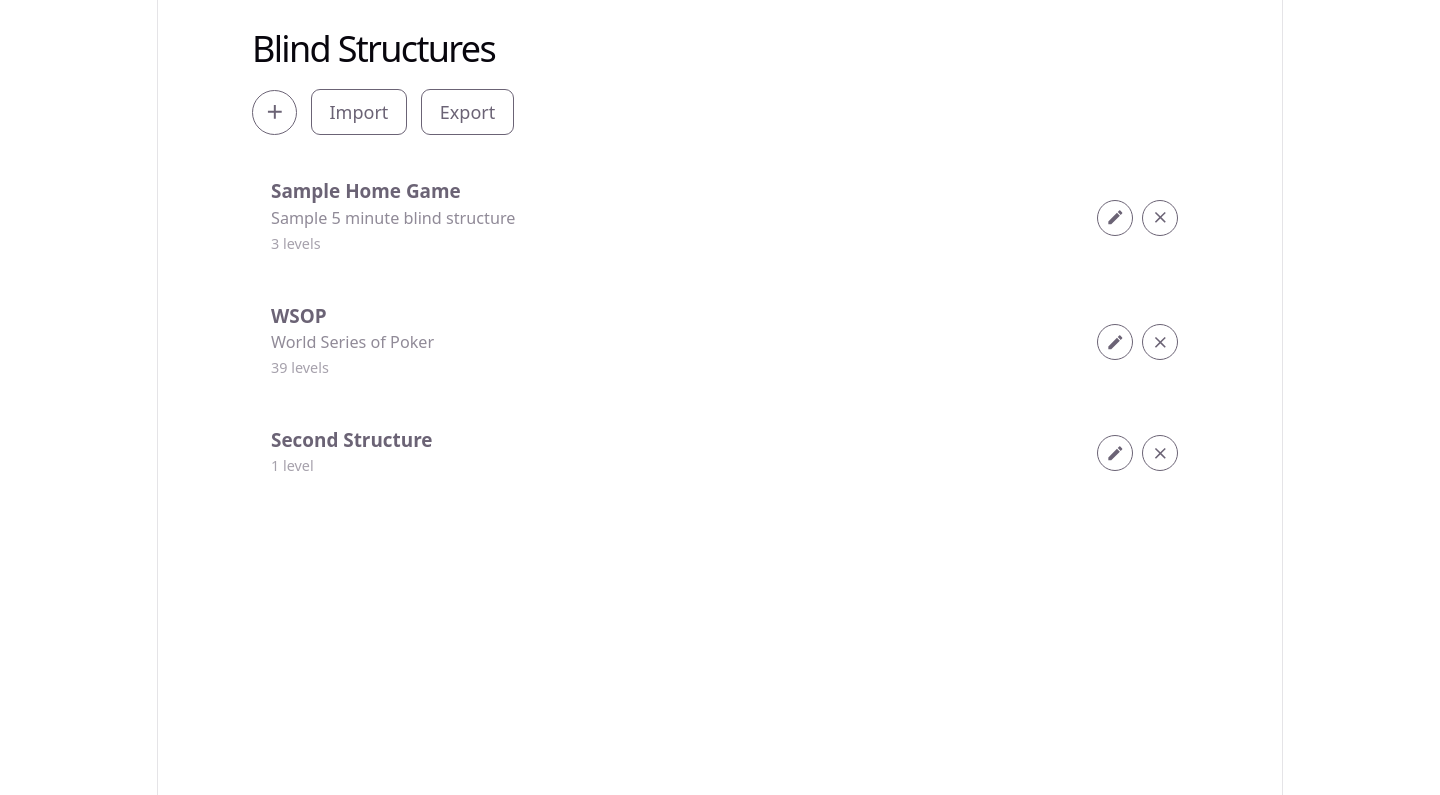
Test: SettingsPage › saves changes and proceeds when Save is chosen in the unsaved-changes dialog
This screenshot has width=1440, height=795.
Step 1. Click the button named "Edit Sample Home Game" → (1115, 218), box top-left (1097, 200), bottom-right (1133, 236)
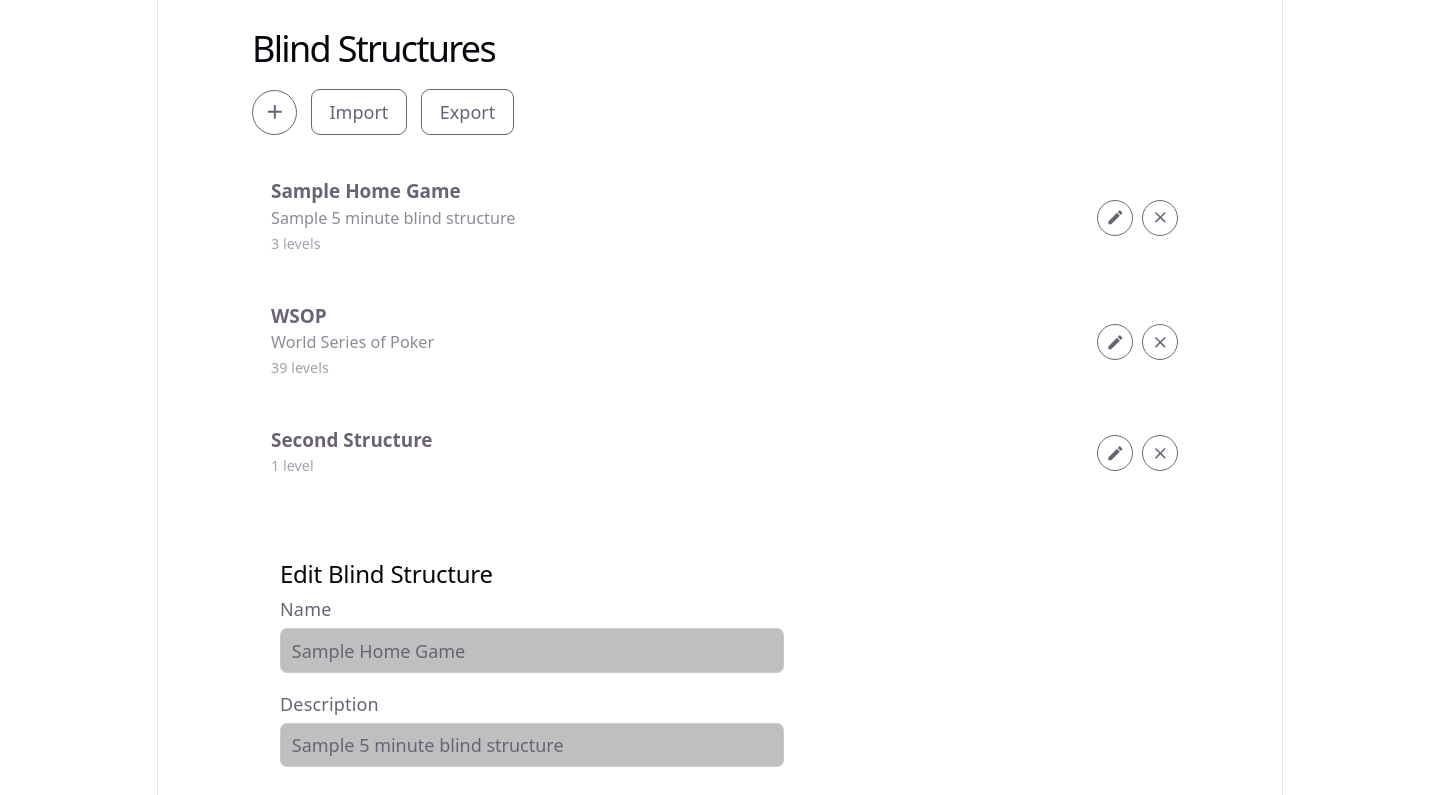
Step 2. Replace the text in the field labelled "Name" with "Sample Home Game Edited" → (532, 651), box top-left (280, 628), bottom-right (784, 673)
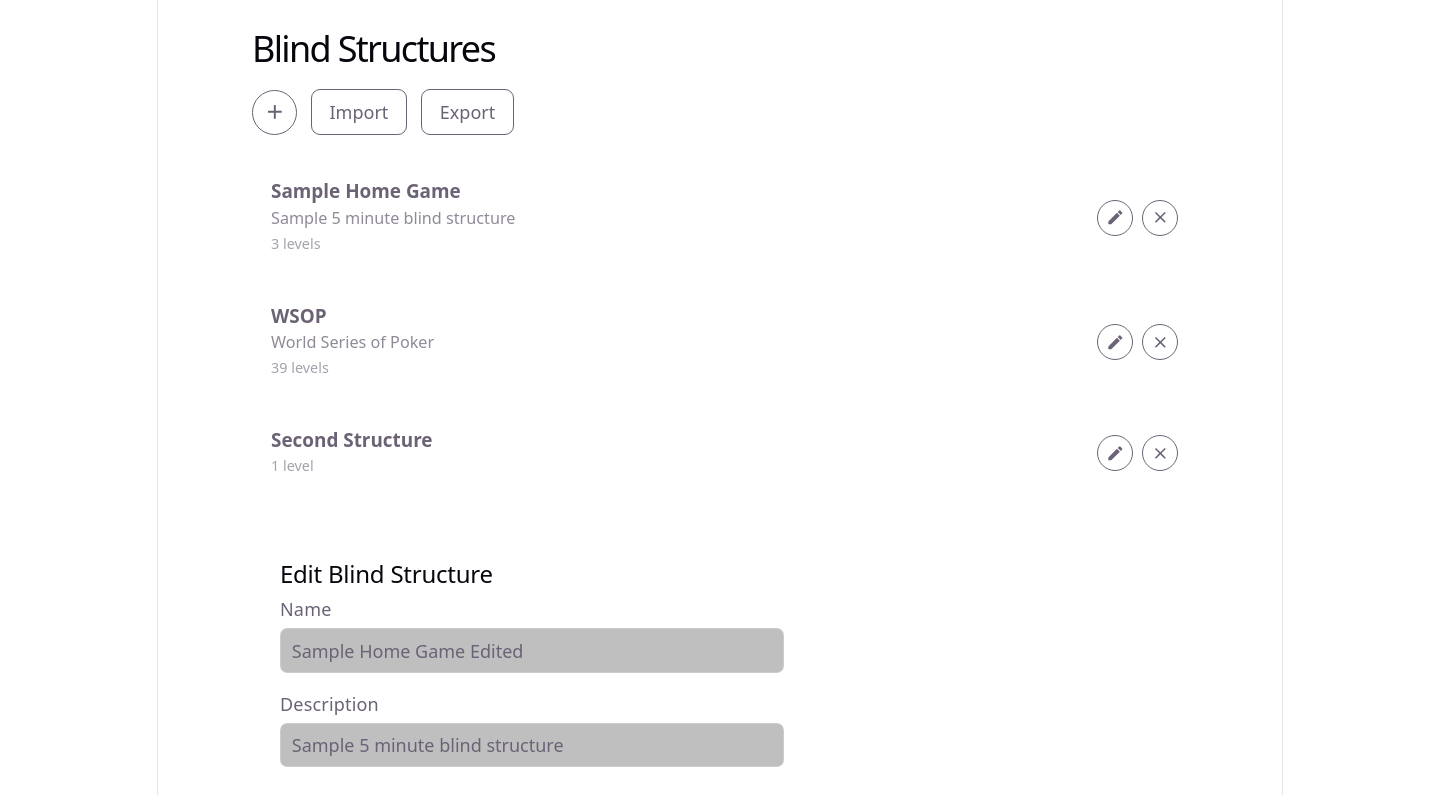
Step 3. Click the button named "Edit Second Structure" → (1115, 453), box top-left (1097, 435), bottom-right (1133, 471)
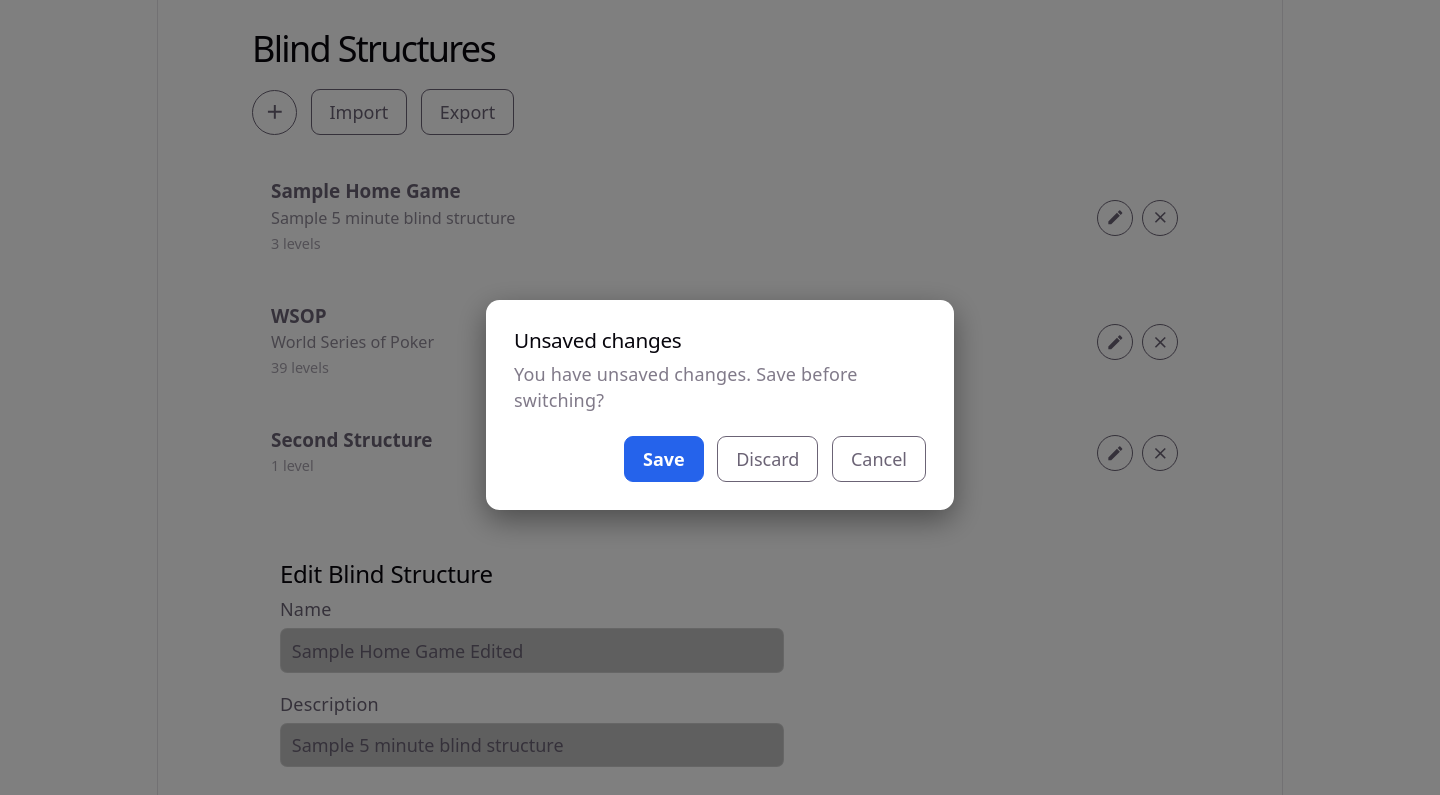
Step 4. Click the button "Save" → (664, 459), box top-left (624, 436), bottom-right (704, 482)
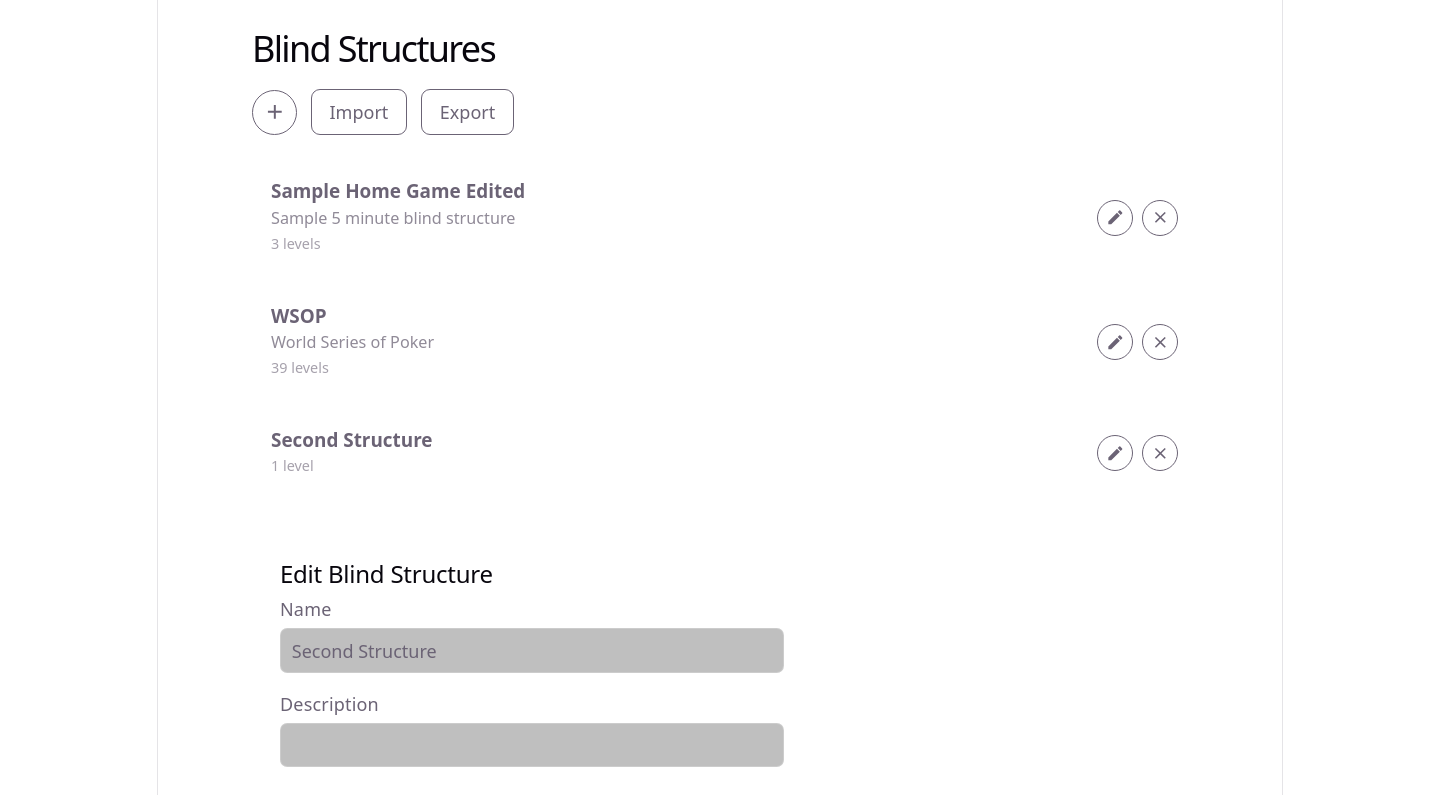
Now the text "You have unsaved changes. Save before switching?" is gone
Now the field labelled "Name" holds "Second Structure", box top-left (280, 628), bottom-right (784, 673)
